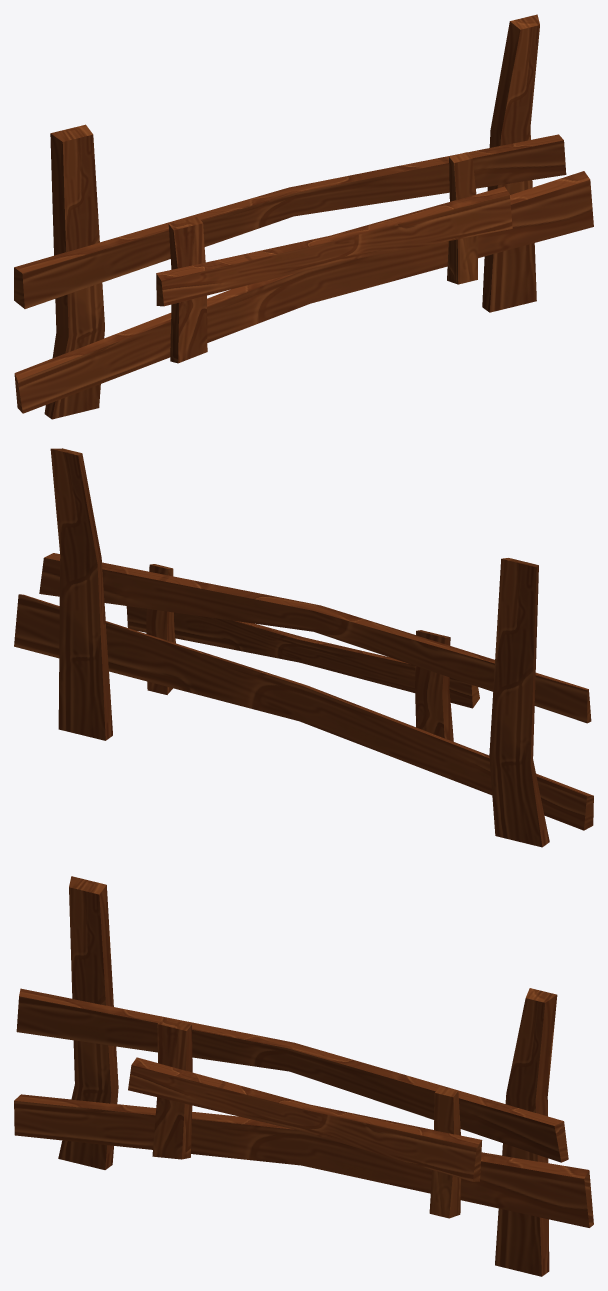
File: 4_Valla_Clara.fbx
The picture shows the model from 3 angles, top to bottom: view 1: azimuth 30°, elevation 25°; view 2: azimuth 150°, elevation 25°; view 3: azimuth 330°, elevation 25°; orthographic projection.
Visible parts, largest first — view 1: V_Valla4_Clara; view 2: V_Valla4_Clara; view 3: V_Valla4_Clara.
Boxes of the visible parts, left/top/right/bottom form: V_Valla4_Clara: left=14, top=14, right=593, bottom=419; V_Valla4_Clara: left=14, top=448, right=593, bottom=847; V_Valla4_Clara: left=14, top=876, right=593, bottom=1276.
Bounding box in the file's own units: 123 × 56.77 × 11.04.
